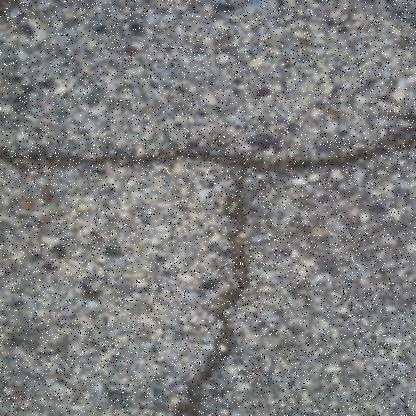Cracks: (152, 137, 270, 416), (0, 121, 416, 176)
